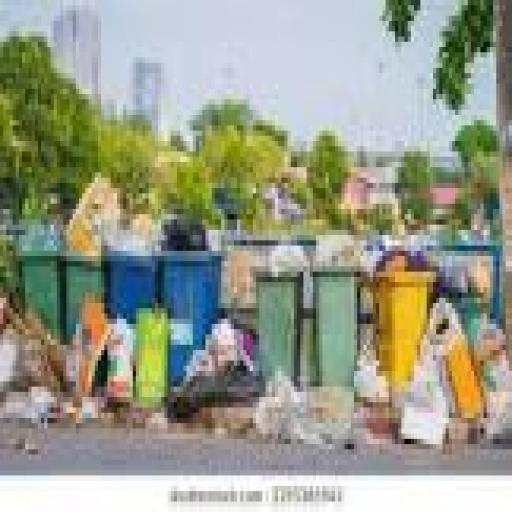poubelle_pleine: (372, 213, 448, 458), (147, 194, 229, 416), (303, 212, 371, 422), (13, 177, 59, 398), (65, 177, 110, 387)
